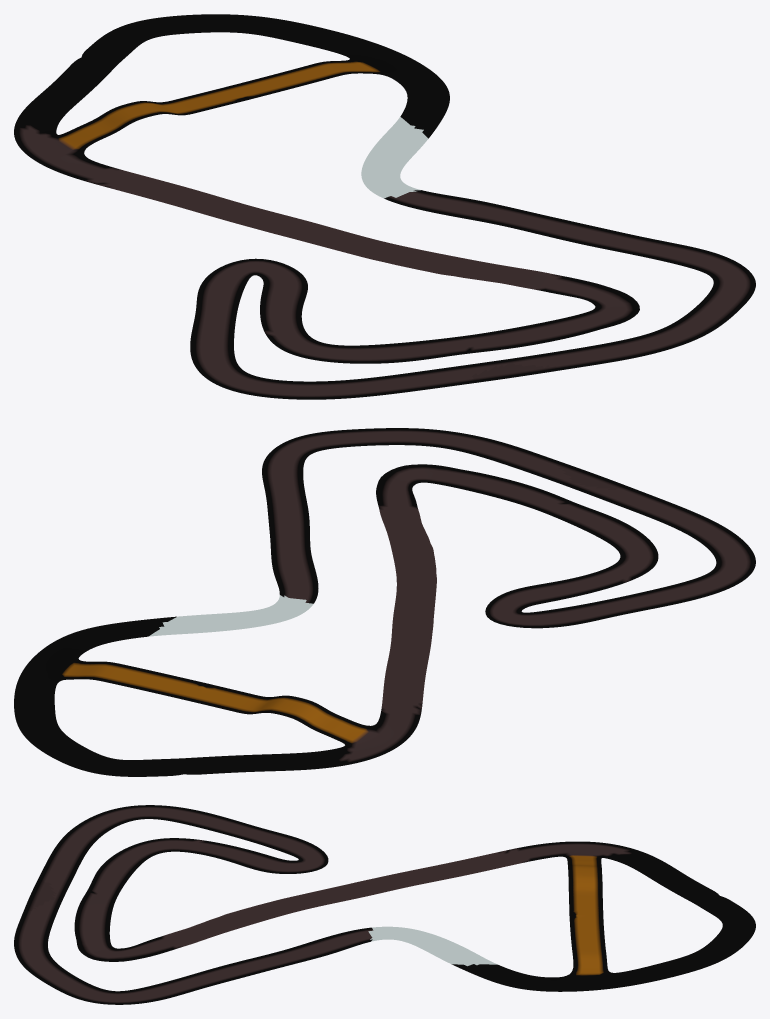
Rendered from Track2.fbx.
3 views of the same model, one above another, from view 1: azimuth 30°, elevation 25°; view 2: azimuth 150°, elevation 25°; view 3: azimuth 270°, elevation 25° (orthographic). The views are drawn at different scales.
Visible parts, largest first — view 1: polySurface1; view 2: polySurface1; view 3: polySurface1.
Part boxes in pixels (x1=…): polySurface1: x1=14, y1=14, x2=755, y2=399; polySurface1: x1=14, y1=428, x2=755, y2=776; polySurface1: x1=14, y1=805, x2=755, y2=1004.
Bounding box in the file's own units: 557 × 20.55 × 874.
